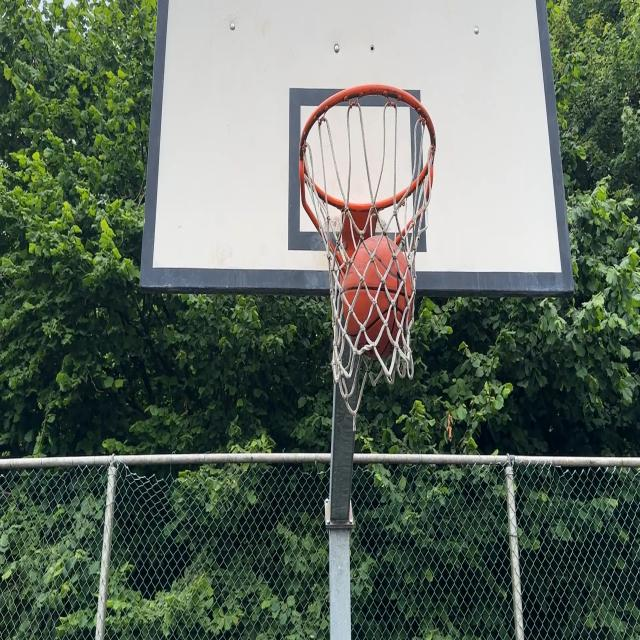Goal: (342, 238, 415, 359)
